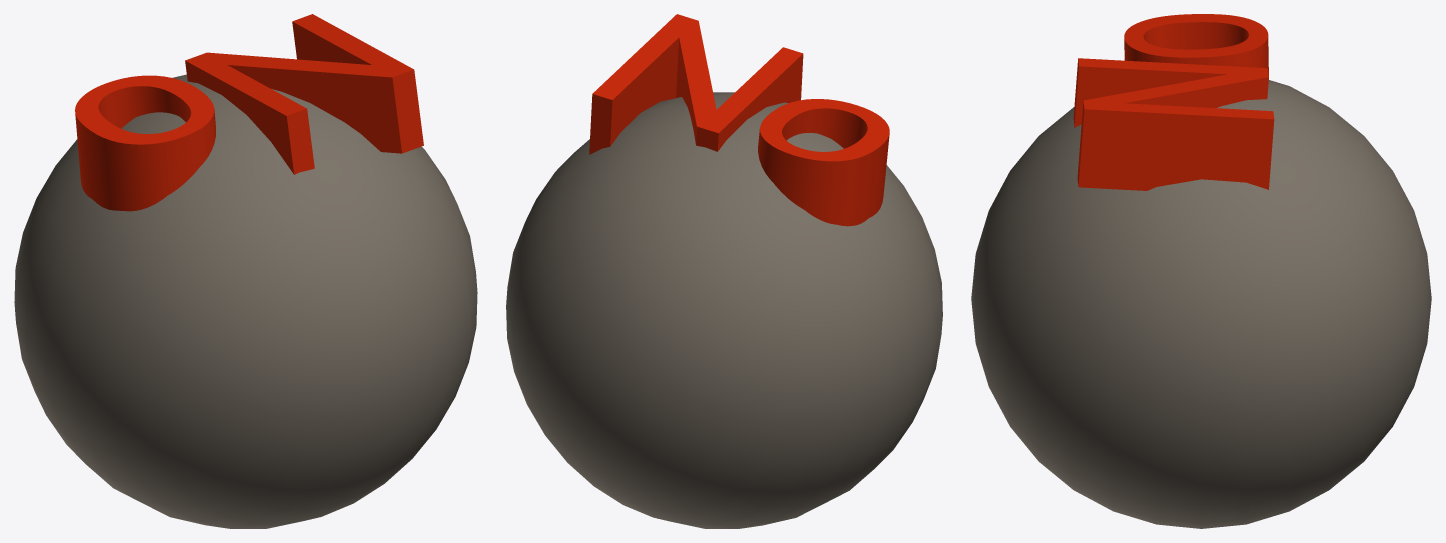
3 views of the same model, side by side, from view 1: azimuth 30°, elevation 25°; view 2: azimuth 150°, elevation 25°; view 3: azimuth 270°, elevation 25° (orthographic). The views are drawn at different scales.
Parts seen in each view (by area): view 1: U002, Object017, Object018; view 2: U002, Object017, Object018; view 3: U002, Object017, Object018.
Boxes of the visible parts, x1,y1,x2,y2 form: U002: [14, 74, 477, 528]; Object017: [185, 14, 423, 174]; Object018: [75, 75, 215, 211]; U002: [506, 92, 942, 528]; Object017: [589, 14, 803, 154]; Object018: [758, 99, 889, 226]; U002: [971, 80, 1431, 528]; Object017: [1073, 58, 1274, 190]; Object018: [1124, 14, 1268, 74].
Bounding box in the file's own units: 38.67 × 41.84 × 38.75.
